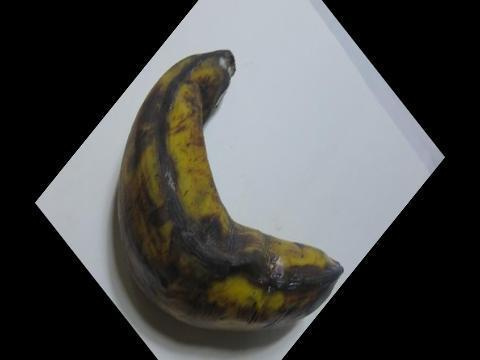overripe: (105, 37, 358, 346)
